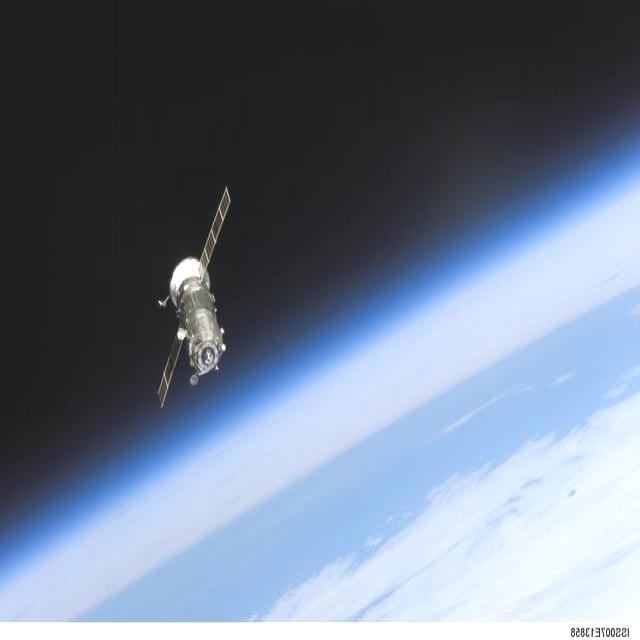satellite: (147, 193, 252, 415)
